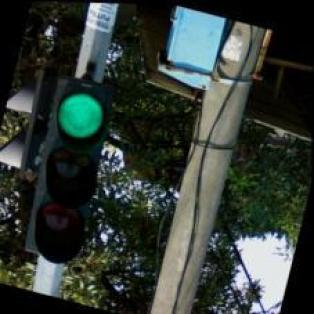Semaforo Verde: (14, 72, 124, 268)
